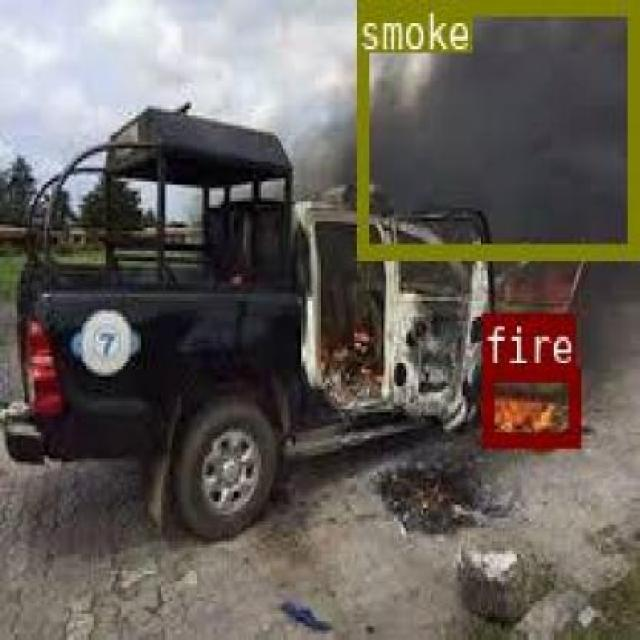Fire: (481, 365, 577, 443)
Smoke: (354, 0, 636, 254)
